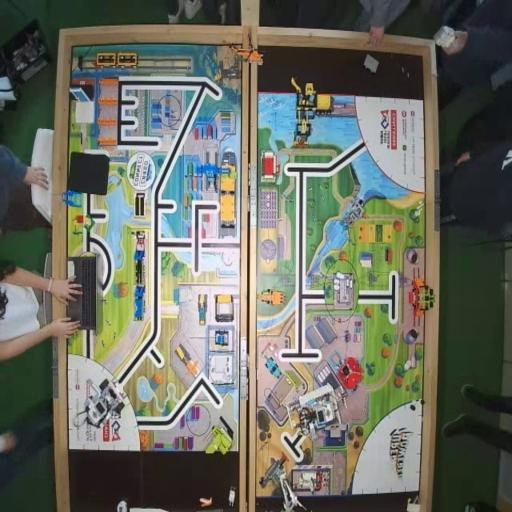lego_robot: (286, 382, 346, 441), (85, 378, 126, 429)
